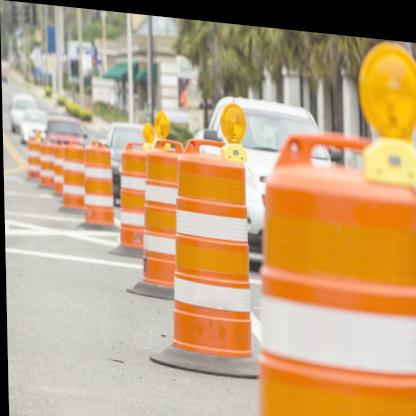obstacle: (249, 151, 416, 416), (160, 128, 259, 366), (136, 134, 179, 290)
